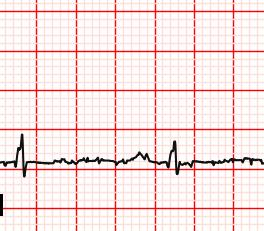Poor R Progression: (12, 131, 30, 168), (164, 136, 184, 168)
